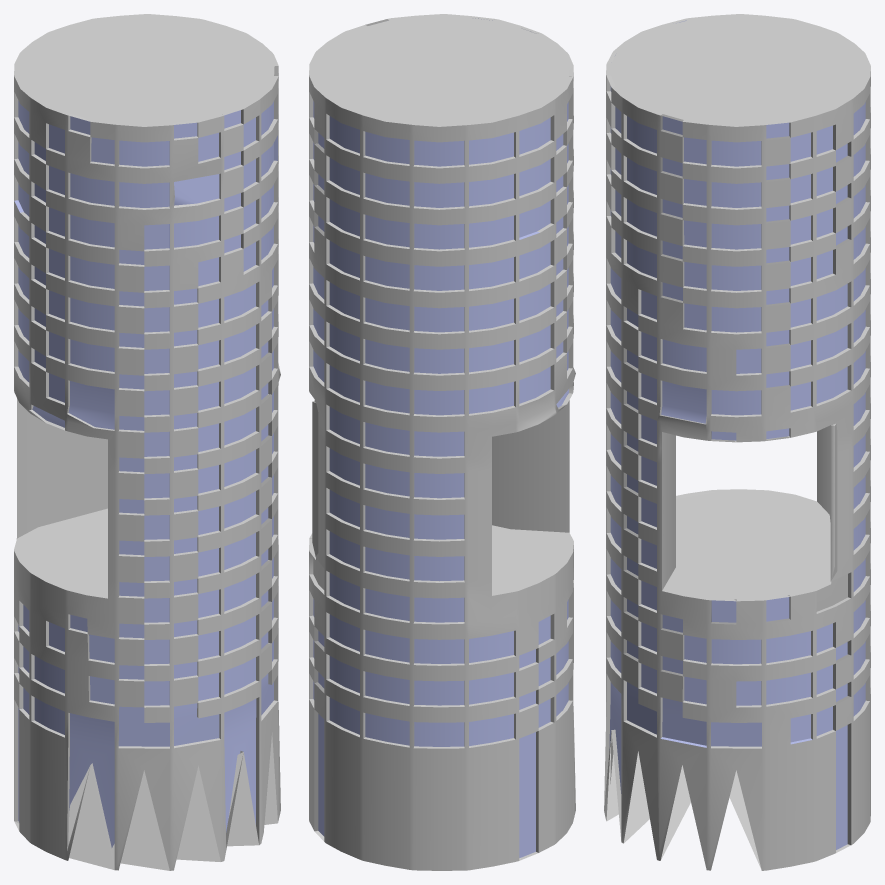
File: buhinn1.fbx
The picture shows the model from 3 angles, left to right: view 1: azimuth 30°, elevation 25°; view 2: azimuth 150°, elevation 25°; view 3: azimuth 270°, elevation 25°; orthographic projection.
Visible parts, largest first — view 1: polySurface4; view 2: polySurface4; view 3: polySurface4.
Part boxes in pixels (x1,y1,x2,y2): polySurface4: (14,14,280,870); polySurface4: (309,14,575,870); polySurface4: (604,14,870,870).
Bounding box in the file's own units: 12.6 × 38.65 × 12.54.
